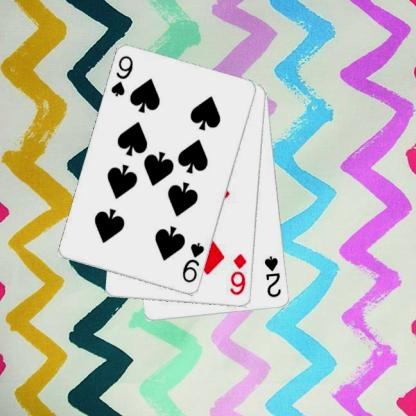2S: (262, 254, 282, 299)
6D: (227, 251, 248, 297)
9S: (108, 53, 135, 98), (180, 240, 206, 284)
